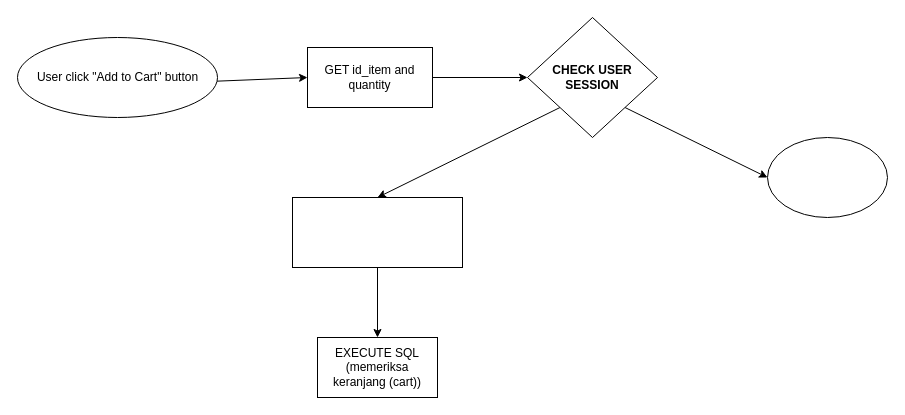
Image size: 905x415. Some labels were removed from this diagram. Here are the shapes that lost their labels. From the top down, the centre of each, then its label:
[827,177]: REDIRECT TO /restaurant/ (index)
[377,232]: Connect a database
